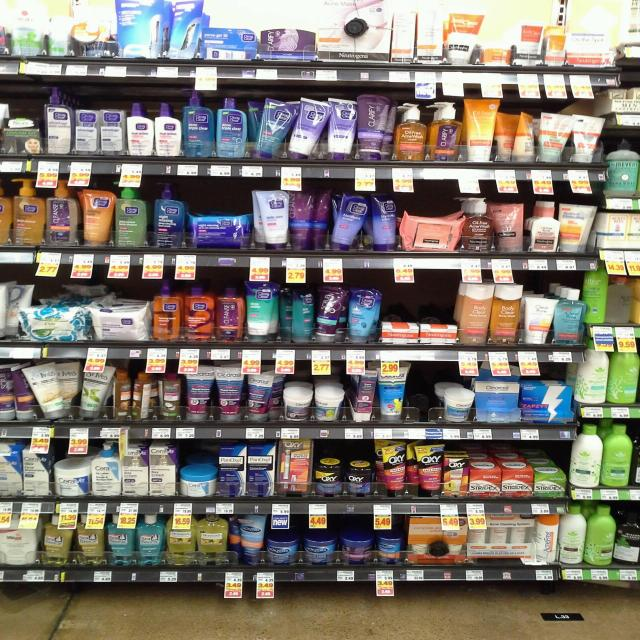empty: (412, 362, 433, 423)
